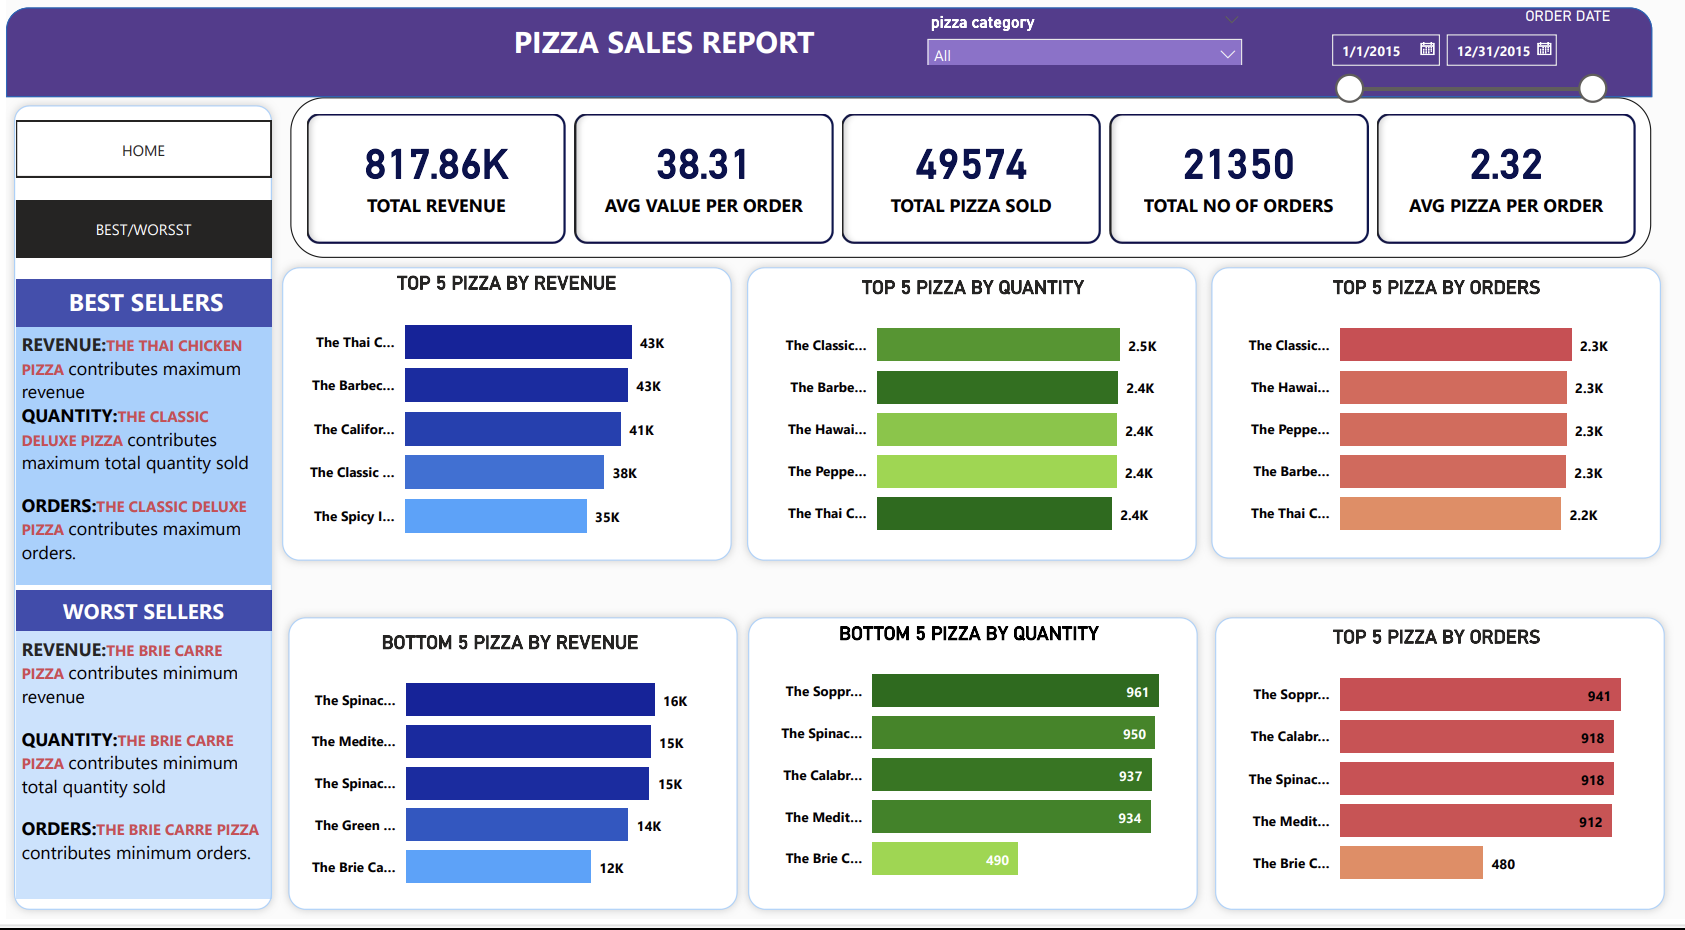

The page's visual inventory and layout, read from the dashboard file:
{"tool":"powerbi","page":{"name":"BEST/WORSST","canvas":[1500,820],"ordinal":1},"visuals":[{"type":"cardVisual","fields":{"Data":["pizza_sales.TOTAL REVENUE","pizza_sales.AVG VALUE PER ORDER","pizza_sales.TOTAL PIZZA SOLD","pizza_sales.TOTAL NO OF ORDERS","pizza_sales.AVG PIZZA PER ORDER"]},"box":[253.1,88.9,1211.1,143.2],"z":0},{"type":"shape","box":[0,8.6,1465.4,80.2],"z":1000},{"type":"textbox","box":[445.7,16,287.7,51.9],"z":2000},{"type":"shape","box":[238.3,233.3,414.8,275.3],"z":3000},{"type":"shape","box":[0,88.9,244.4,730.9],"z":4000},{"type":"textbox","box":[8.6,564.2,227.2,238.3],"z":5000},{"type":"textbox","box":[8.6,528.4,227.2,35.8],"z":6000},{"type":"textbox","box":[8.6,292.6,227.2,230.9],"z":7000},{"type":"textbox","box":[8.6,250.6,227.2,42],"z":8000},{"type":"slicer","fields":{"Values":["pizza_sales.pizza_category"]},"box":[809.9,8.6,300,51.9],"z":9000},{"type":"slicer","title":"ORDER DATE","fields":{"Values":["pizza_sales.order_date"]},"box":[1166.7,8.6,266.7,91.4],"z":10000},{"type":"shape","box":[651.9,233.3,414.8,275.3],"z":11000},{"type":"shape","box":[244.4,544.4,414.8,275.3],"z":12000},{"type":"shape","box":[653.1,544.4,414.8,275.3],"z":13000},{"type":"shape","box":[1067.9,544.4,416,275.3],"z":14000},{"type":"shape","box":[1065.4,233.3,414.8,274.1],"z":15000},{"type":"barChart","title":"TOP 5 PIZZA BY REVENUE ","fields":{"Category":["pizza_sales.pizza_name"],"Y":["pizza_sales.TOTAL REVENUE"]},"box":[253.1,244.4,385.2,253.1],"z":16000},{"type":"barChart","title":"BOTTOM  5 PIZZA BY REVENUE ","fields":{"Category":["pizza_sales.pizza_name"],"Y":["pizza_sales.TOTAL REVENUE"]},"box":[253.1,564.2,391.4,244.4],"z":17000},{"type":"barChart","title":"TOP 5 PIZZA BY QUANTITY","fields":{"Category":["pizza_sales.pizza_name"],"Y":["pizza_sales.TOTAL PIZZA SOLD"]},"box":[676.5,248.1,367.9,246.9],"z":18000},{"type":"barChart","title":"BOTTOM 5 PIZZA BY QUANTITY","fields":{"Category":["pizza_sales.pizza_name"],"Y":["pizza_sales.TOTAL PIZZA SOLD"]},"box":[672.8,555.6,367.9,246.9],"z":19000},{"type":"barChart","title":"TOP 5 PIZZA BY ORDERS ","fields":{"Category":["pizza_sales.pizza_name"],"Y":["pizza_sales.TOTAL NO OF ORDERS"]},"box":[1088.9,248.1,367.9,246.9],"z":20000},{"type":"barChart","title":"TOP 5 PIZZA BY ORDERS ","fields":{"Category":["pizza_sales.pizza_name"],"Y":["pizza_sales.TOTAL NO OF ORDERS"]},"box":[1088.9,559.3,367.9,246.9],"z":21000},{"type":"pageNavigator","box":[8.6,181.5,227.2,50.6],"z":21001},{"type":"pageNavigator","box":[8.6,109.9,227.2,50.6],"z":21002}]}

Visuals, with their boxes in screenshot pixels (x1, y1, x2, y2), scaled from the page's 1500x820 canvas onto the 1685x930 screenshot:
cardVisual - pizza_sales.TOTAL REVENUE x pizza_sales.AVG VALUE PER ORDER: {"left": 284, "top": 101, "right": 1645, "bottom": 263}
shape: {"left": 0, "top": 10, "right": 1646, "bottom": 101}
textbox: {"left": 501, "top": 18, "right": 824, "bottom": 77}
shape: {"left": 268, "top": 265, "right": 734, "bottom": 577}
shape: {"left": 0, "top": 101, "right": 275, "bottom": 929}
textbox: {"left": 10, "top": 640, "right": 265, "bottom": 910}
textbox: {"left": 10, "top": 599, "right": 265, "bottom": 640}
textbox: {"left": 10, "top": 332, "right": 265, "bottom": 594}
textbox: {"left": 10, "top": 284, "right": 265, "bottom": 332}
slicer - pizza_sales.pizza_category: {"left": 910, "top": 10, "right": 1247, "bottom": 69}
"ORDER DATE" slicer: {"left": 1311, "top": 10, "right": 1610, "bottom": 113}
shape: {"left": 732, "top": 265, "right": 1198, "bottom": 577}
shape: {"left": 275, "top": 617, "right": 741, "bottom": 929}
shape: {"left": 734, "top": 617, "right": 1200, "bottom": 929}
shape: {"left": 1200, "top": 617, "right": 1667, "bottom": 929}
shape: {"left": 1197, "top": 265, "right": 1663, "bottom": 575}
"TOP 5 PIZZA BY REVENUE " barChart: {"left": 284, "top": 277, "right": 717, "bottom": 564}
"BOTTOM  5 PIZZA BY REVENUE " barChart: {"left": 284, "top": 640, "right": 724, "bottom": 917}
"TOP 5 PIZZA BY QUANTITY" barChart: {"left": 760, "top": 281, "right": 1173, "bottom": 561}
"BOTTOM 5 PIZZA BY QUANTITY" barChart: {"left": 756, "top": 630, "right": 1169, "bottom": 910}
"TOP 5 PIZZA BY ORDERS " barChart: {"left": 1223, "top": 281, "right": 1636, "bottom": 561}
"TOP 5 PIZZA BY ORDERS " barChart: {"left": 1223, "top": 634, "right": 1636, "bottom": 914}
pageNavigator: {"left": 10, "top": 206, "right": 265, "bottom": 263}
pageNavigator: {"left": 10, "top": 125, "right": 265, "bottom": 182}
